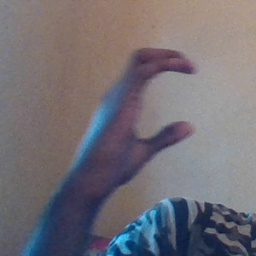C: (100, 45, 212, 158)
